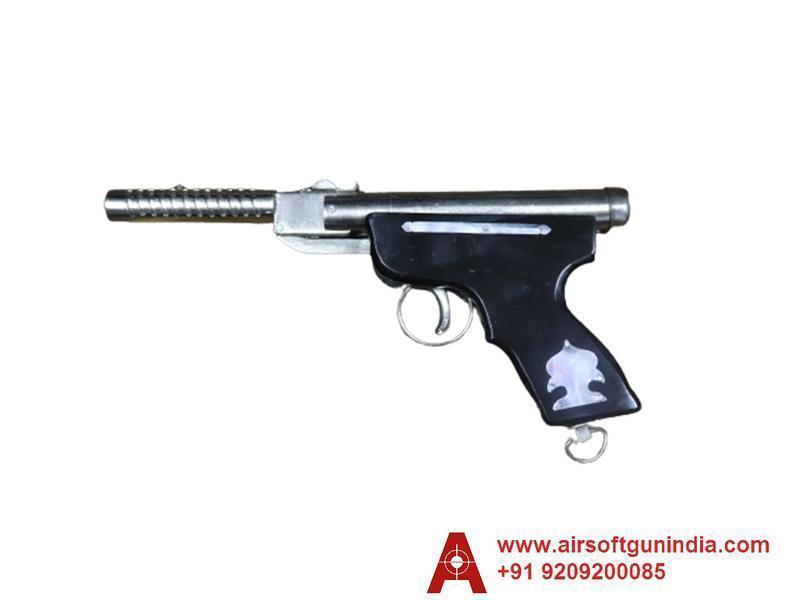GUN: (97, 177, 646, 464)
